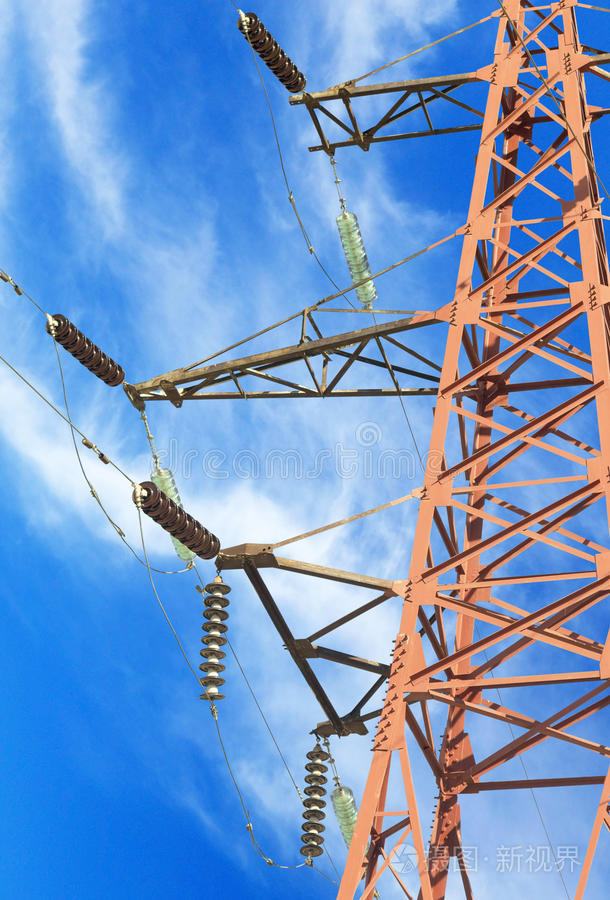insulator: (133, 480, 222, 556), (234, 10, 307, 93), (47, 311, 123, 389), (196, 581, 229, 708), (337, 211, 378, 305), (153, 471, 194, 561), (296, 747, 329, 855), (330, 785, 362, 856)
